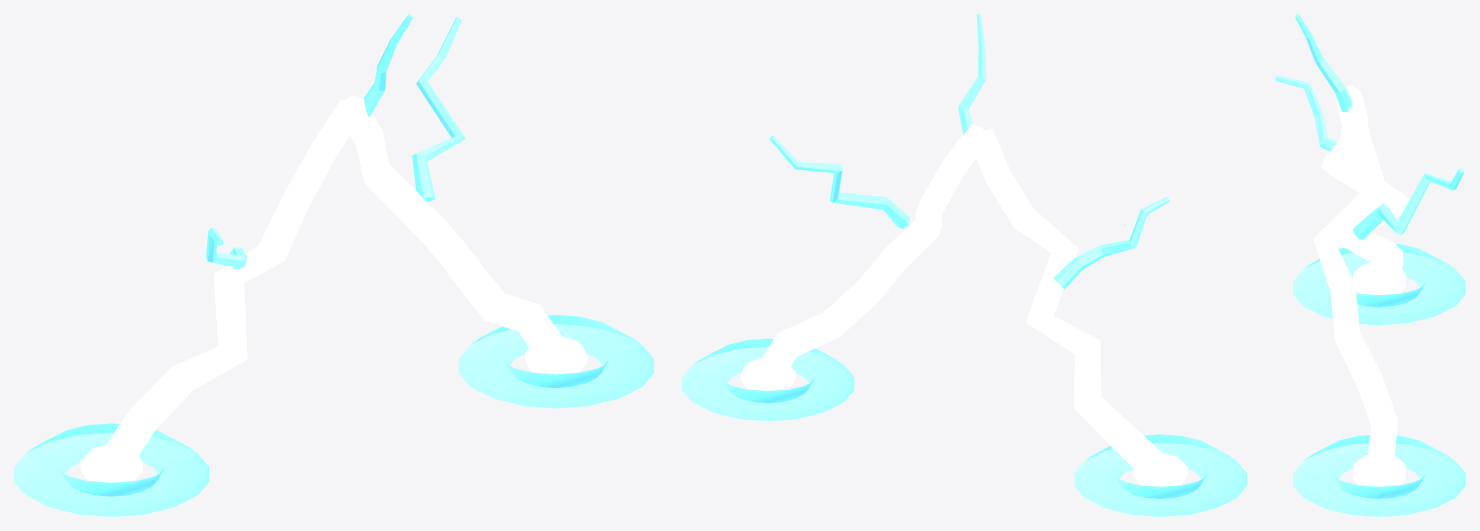
File: vfx-mesh-library-chain-lightning-arc-20f818cf__21902.glb
3 views of the same model, side by side, from view 1: azimuth 30°, elevation 25°; view 2: azimuth 150°, elevation 25°; view 3: azimuth 270°, elevation 25° (orthographic). The views are drawn at different scales.
Parts seen in each view (by area): view 1: chain-lightning-arc; view 2: chain-lightning-arc; view 3: chain-lightning-arc.
Part boxes in pixels (x1,y1,x2,y2): chain-lightning-arc: (14,14,653,516); chain-lightning-arc: (682,14,1246,516); chain-lightning-arc: (1275,14,1465,516).
Bounding box in the file's own units: 1.22 × 0.8355 × 0.3694.
